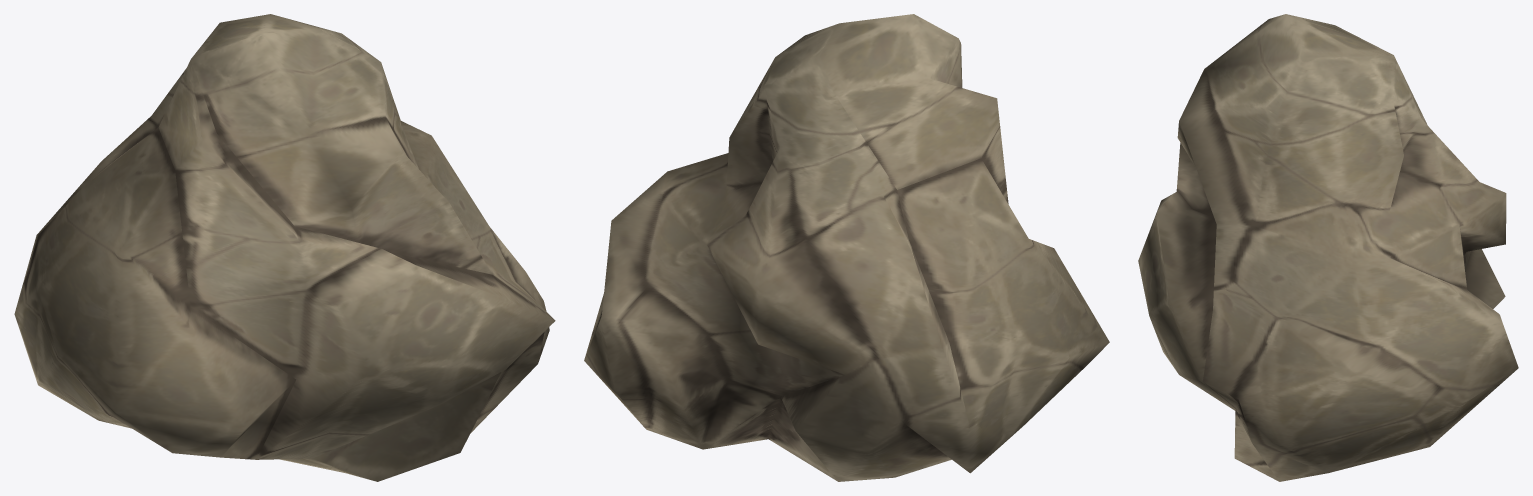
File: Rock_14Custom_LoD.fbx
The picture shows the model from 3 angles, left to right: view 1: azimuth 30°, elevation 25°; view 2: azimuth 150°, elevation 25°; view 3: azimuth 270°, elevation 25°; orthographic projection. The views are drawn at different scales.
Visible parts, largest first — view 1: Rock_14_LOD0; view 2: Rock_14_LOD0; view 3: Rock_14_LOD0.
Part boxes in pixels (left/top/right/bottom): Rock_14_LOD0: left=14, top=14, right=555, bottom=481; Rock_14_LOD0: left=584, top=14, right=1109, bottom=481; Rock_14_LOD0: left=1138, top=14, right=1518, bottom=481.
Size of what is drawn, in the model's own units: 13.15 by 12.47 by 10.89.
